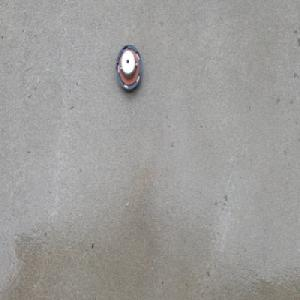FuelCap: (115, 43, 142, 92)
